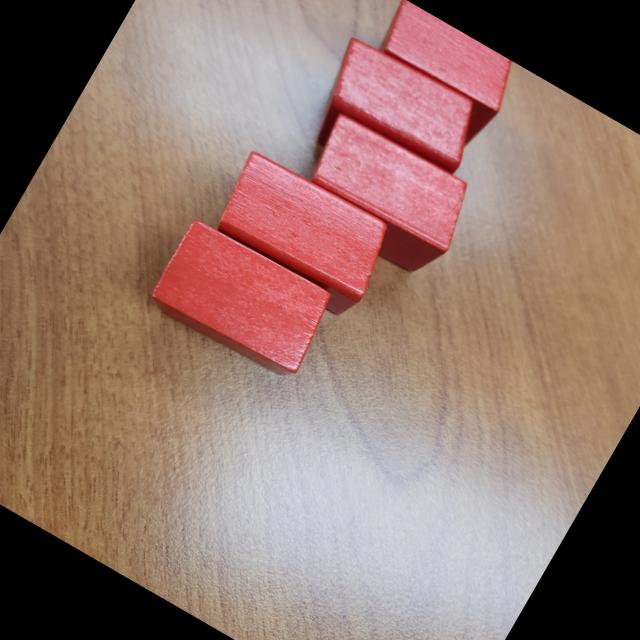red: (284, 107, 486, 288), (294, 32, 492, 212), (201, 146, 401, 323), (144, 214, 340, 386), (349, 0, 524, 158)
